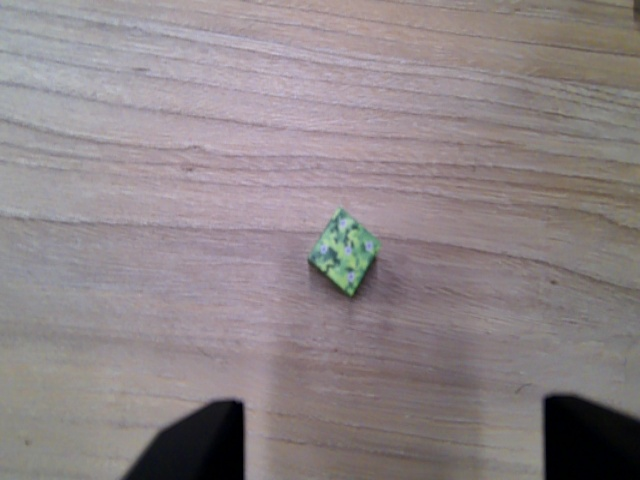grass: (307, 207, 382, 299)
